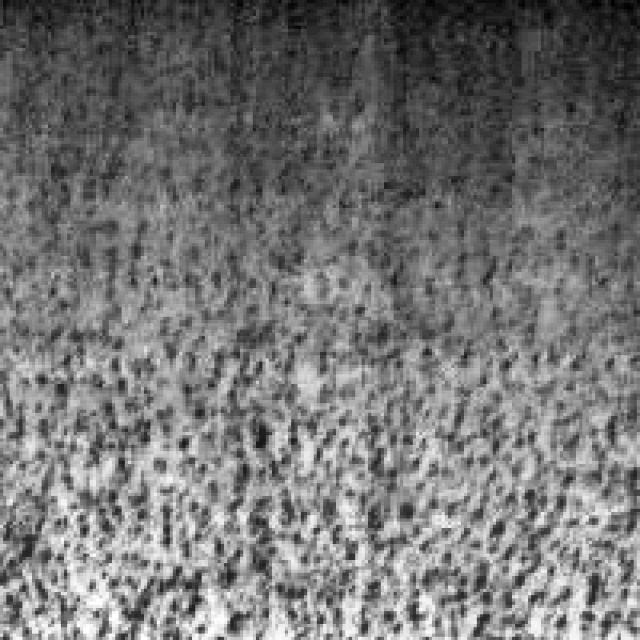Rolled_in_Scale: (0, 179, 637, 637)
